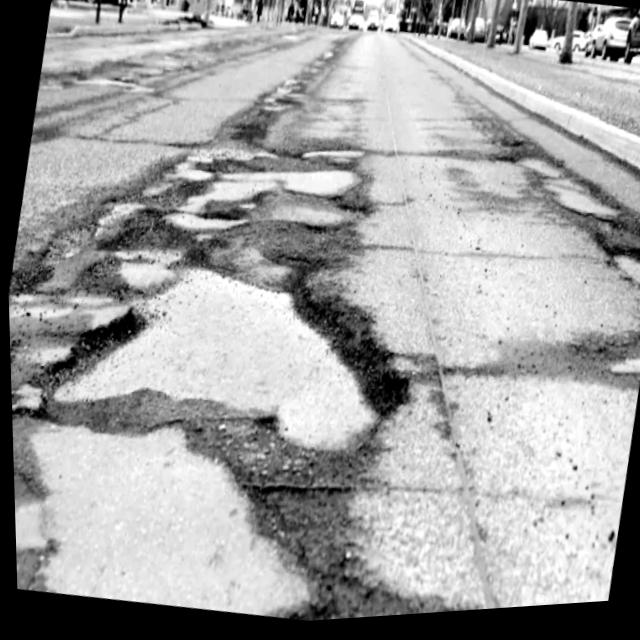pathole: (7, 83, 418, 569), (7, 271, 425, 625), (437, 103, 640, 410)
